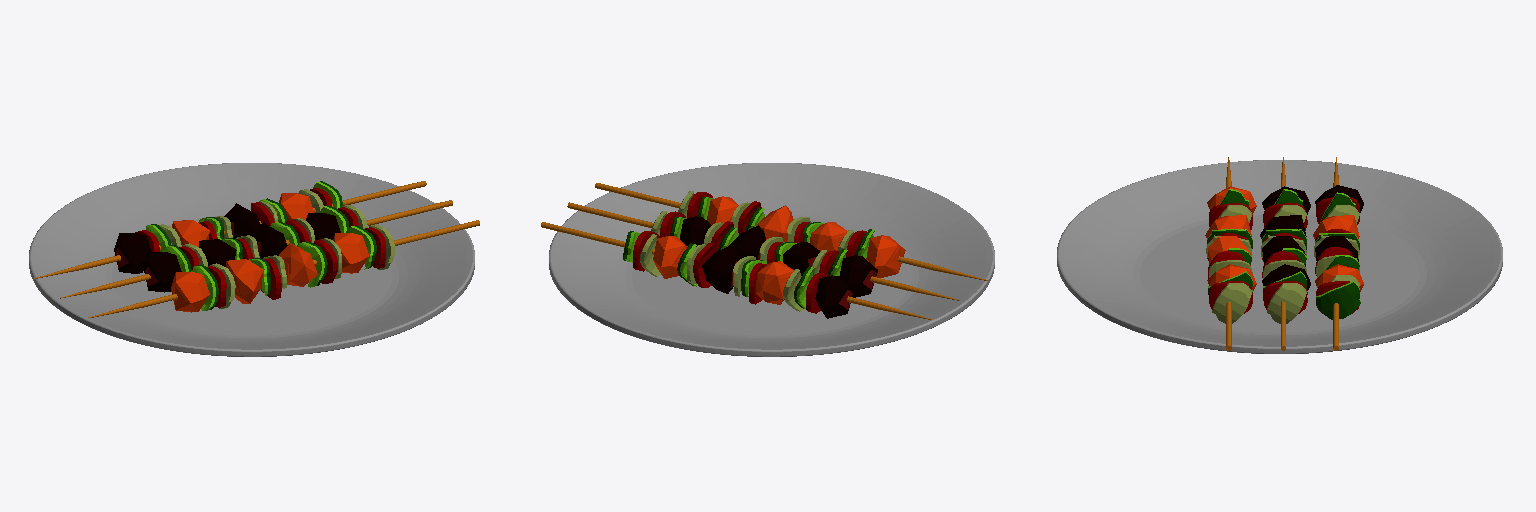
The model's file is Shishkebab_251.obj.
3 renders of one model, left to right at view 1: azimuth 30°, elevation 25°; view 2: azimuth 150°, elevation 25°; view 3: azimuth 270°, elevation 25°, orthographic.
Visible parts, largest first — view 1: ChamferCyl001, Box035, GeoSphere006, GeoSphere007; view 2: ChamferCyl001, GeoSphere007, Box035, GeoSphere006; view 3: ChamferCyl001, Box035, GeoSphere006, GeoSphere007.
Part boxes in pixels (bbox=[...]): ChamferCyl001: bbox=[29, 163, 474, 356]; Box035: bbox=[88, 220, 479, 317]; GeoSphere006: bbox=[60, 200, 452, 298]; GeoSphere007: bbox=[34, 181, 426, 278]; ChamferCyl001: bbox=[549, 163, 994, 356]; GeoSphere007: bbox=[541, 222, 932, 319]; Box035: bbox=[595, 183, 987, 280]; GeoSphere006: bbox=[567, 202, 959, 300]; ChamferCyl001: bbox=[1057, 160, 1502, 353]; Box035: bbox=[1205, 157, 1256, 350]; GeoSphere006: bbox=[1260, 157, 1310, 350]; GeoSphere007: bbox=[1313, 157, 1363, 350].
Size of the model in its own units: 112 by 14.77 by 110.